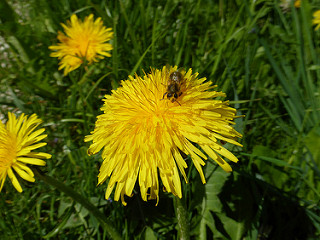dandelion yellow: (82, 63, 246, 207), (1, 107, 52, 198), (47, 13, 116, 75)
